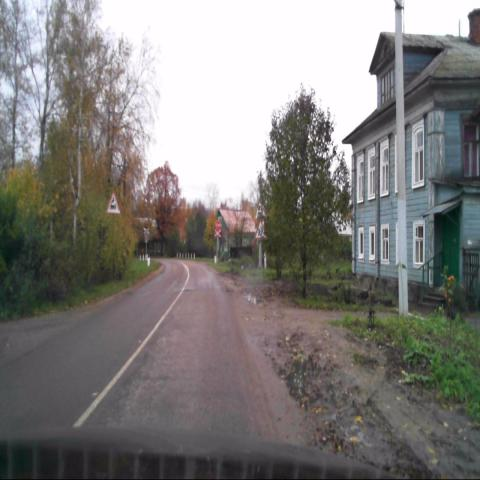1_2: (105, 194, 120, 214)
